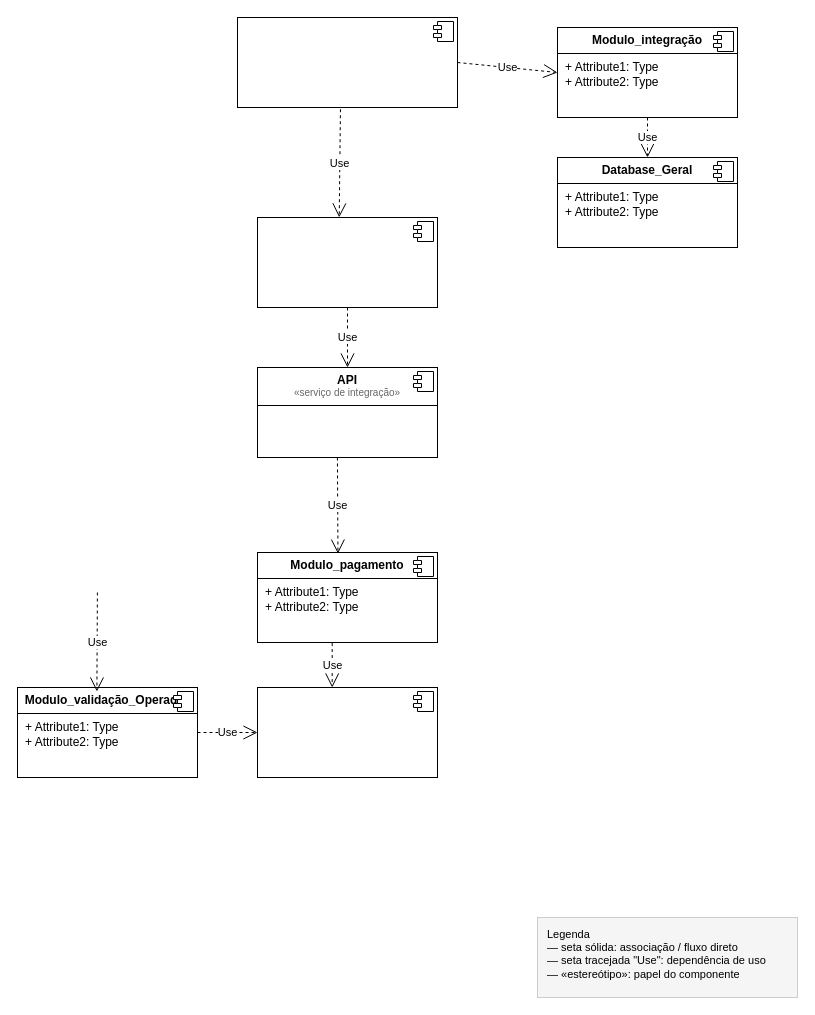
Some shapes in this 815 by 1015 pixel diagram are drawn without their labels. The shapes that lost their labels are listed below. From the top down, each one's centre as x and y in pixels, then its label:
At pixel 347 62: "ServicoAdministrativo «serviço»".
At pixel 347 262: "WebApp «aplicação web»".
At pixel 347 732: "Caixa «serviço»".
